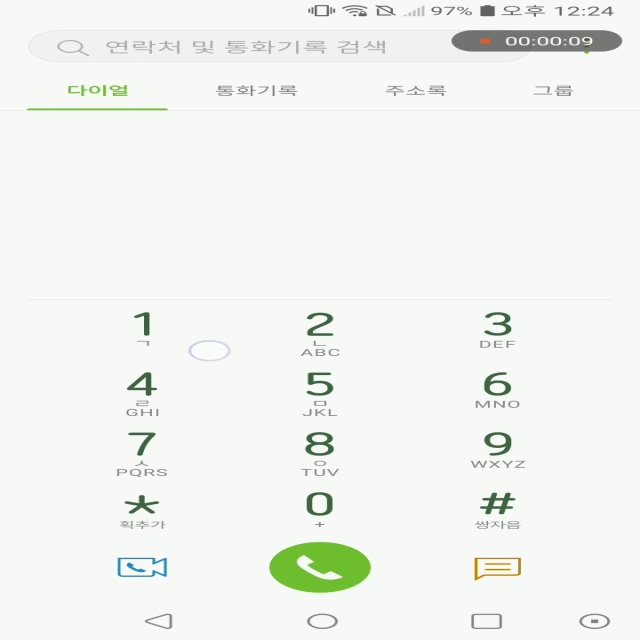Cursor: (189, 340, 233, 362)
